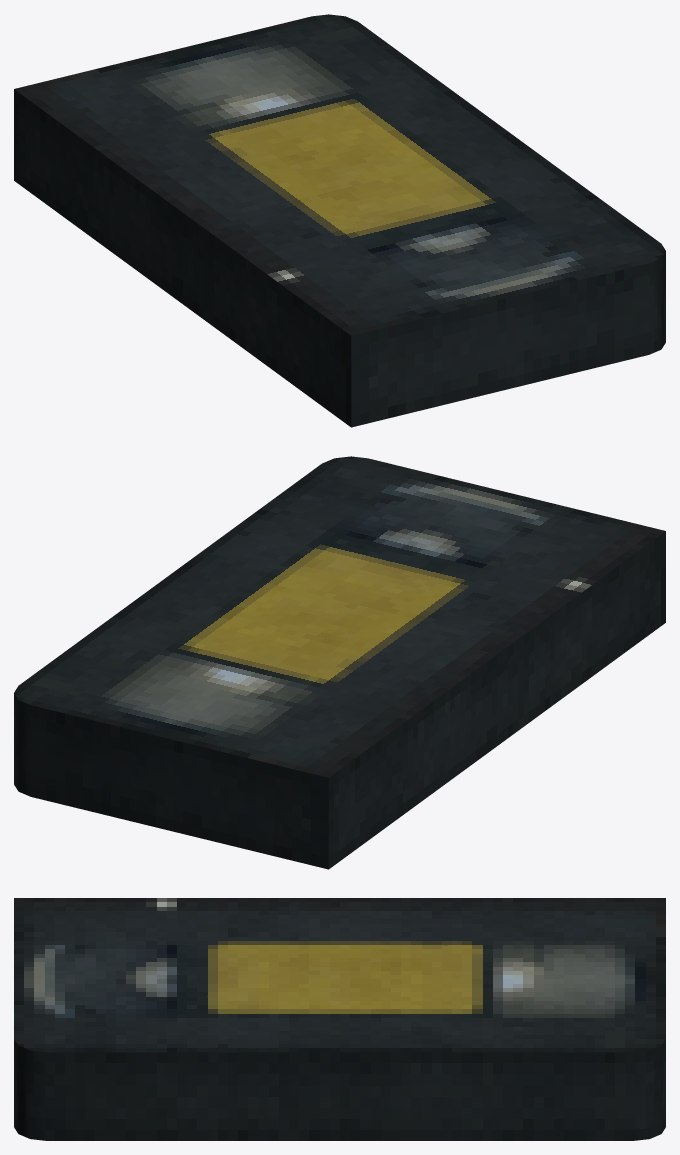
The model's file is vhs_tape_1.glb.
3 renders of one model, top to bottom at view 1: azimuth 30°, elevation 25°; view 2: azimuth 150°, elevation 25°; view 3: azimuth 270°, elevation 25°, orthographic. The views are drawn at different scales.
Visible parts, largest first — view 1: vhs_tape_1; view 2: vhs_tape_1; view 3: vhs_tape_1.
Boxes of the visible parts, box(x1,y1,x2,y2) form: vhs_tape_1: box(14, 14, 665, 427); vhs_tape_1: box(14, 456, 665, 869); vhs_tape_1: box(14, 898, 665, 1140).
Size of the model in its own units: 0.168 by 0.045 by 0.3.
1 material, 1 textured.
